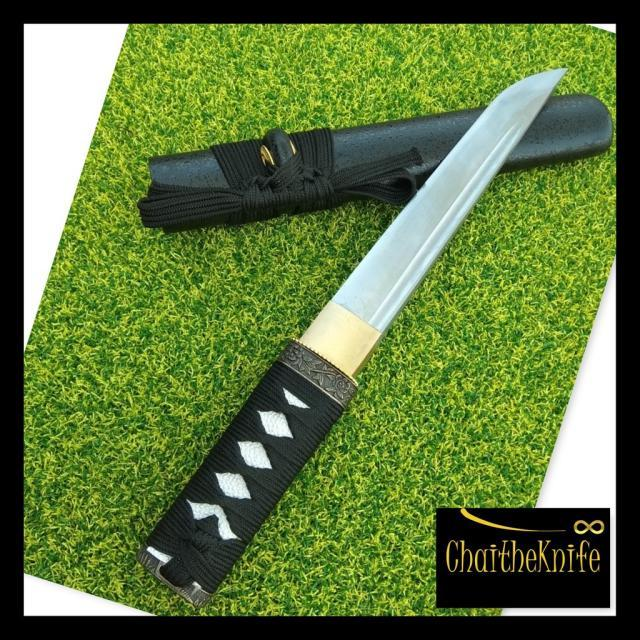short sword: (124, 57, 567, 591)
